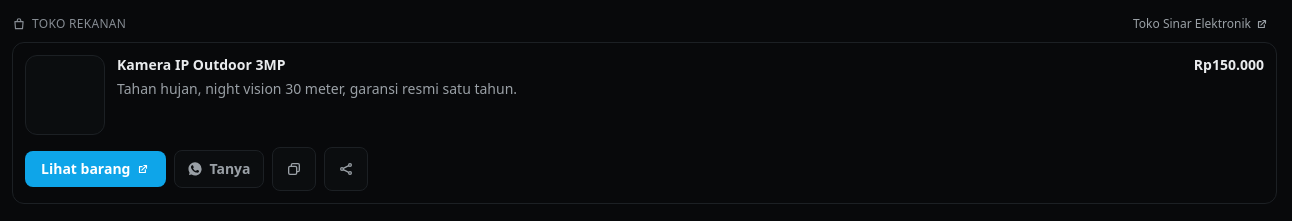
Test: AffiliateOfferCard — copy and share send the shop URL, never /go › says so quietly when the clipboard refuses, and does not paint a fault
Click the button named "Salin link" at (294, 169), box [272,147,316,191]
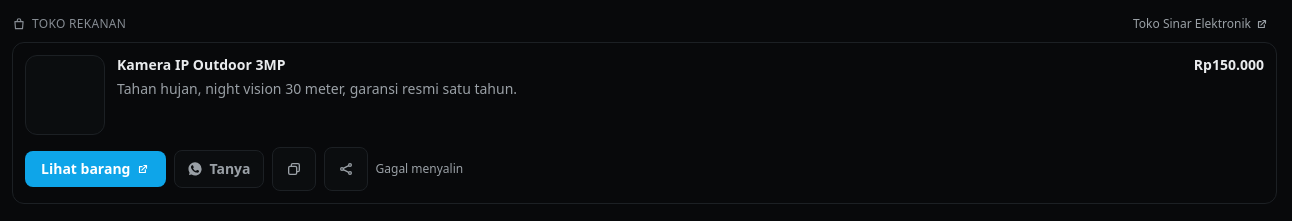
Expected: the text "Gagal menyalin" is shown, [376,161,463,177]
